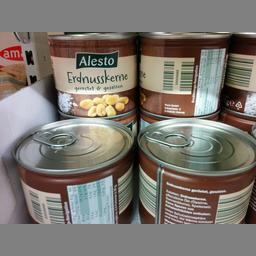nuts: (9, 116, 134, 222), (136, 116, 255, 222), (136, 32, 232, 117), (46, 32, 138, 117)
